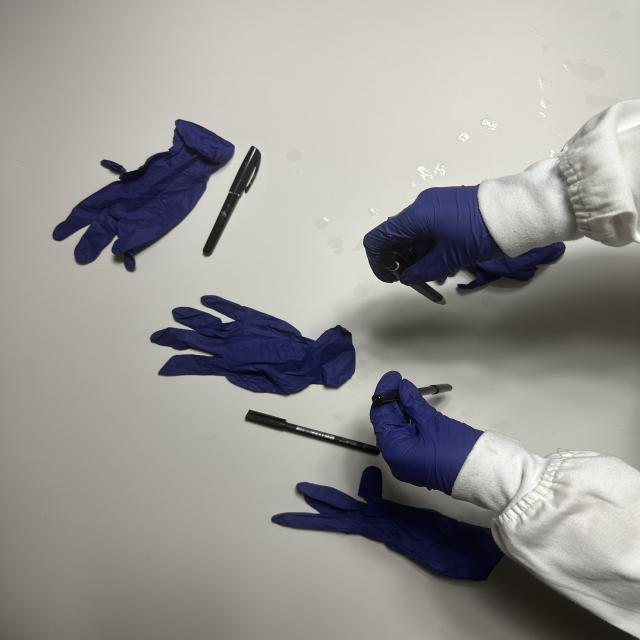gloves_contaminated: (364, 186, 506, 286), (370, 372, 483, 494)
